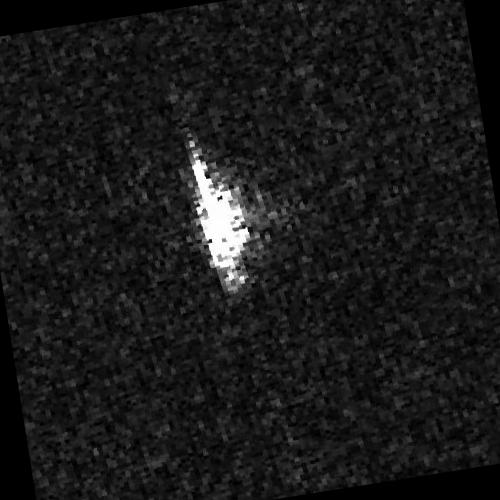ship: (183, 133, 252, 293)
